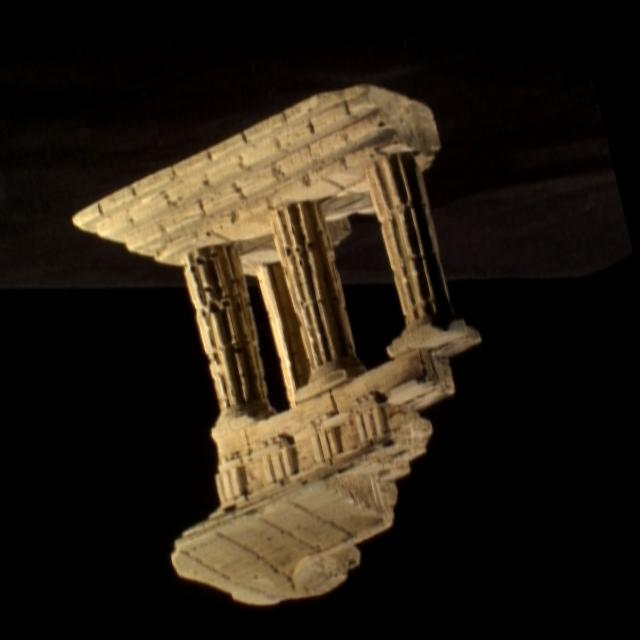Instance-Segmentation: (71, 86, 478, 604)
